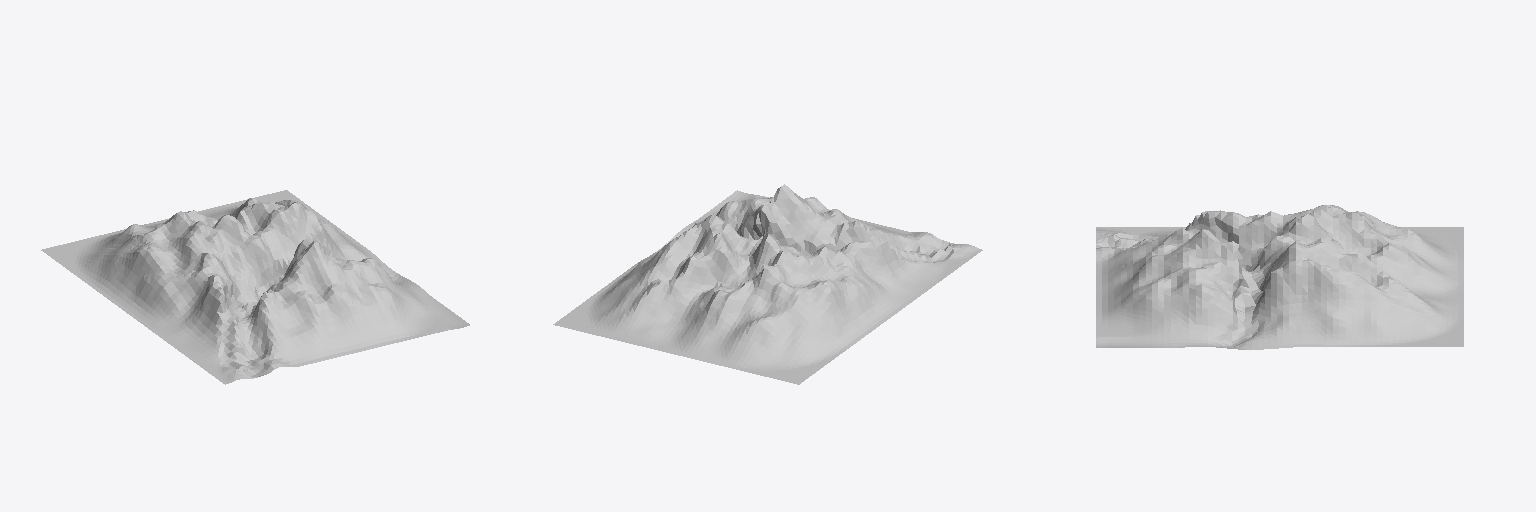
Rendered from Mountain.obj.
3 views of the same model, side by side, from view 1: azimuth 30°, elevation 25°; view 2: azimuth 150°, elevation 25°; view 3: azimuth 270°, elevation 25° (orthographic).
Parts seen in each view (by area): view 1: Landscape; view 2: Landscape; view 3: Landscape.
Boxes of the visible parts, x1=… form: Landscape: x1=41, y1=190, x2=469, y2=384; Landscape: x1=553, y1=184, x2=982, y2=384; Landscape: x1=1096, y1=205, x2=1463, y2=349.
Size of the model in its own units: 6.47 by 1.88 by 8.39.